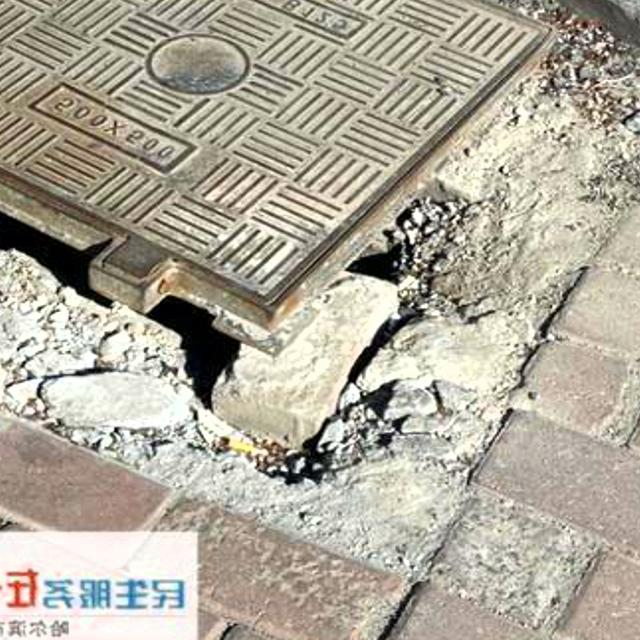circle: (0, 0, 640, 499)
